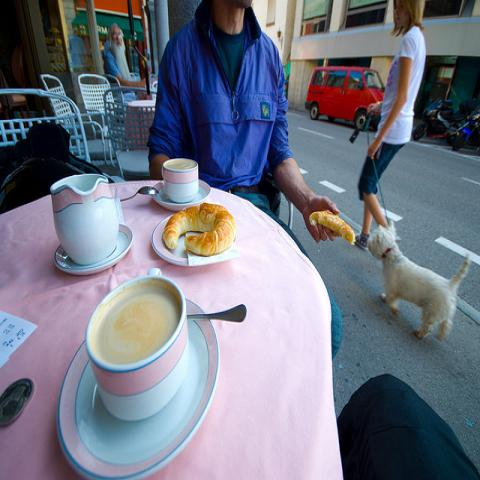car: (303, 65, 386, 132)
motorcycle: (412, 96, 479, 146), (452, 104, 480, 154)
